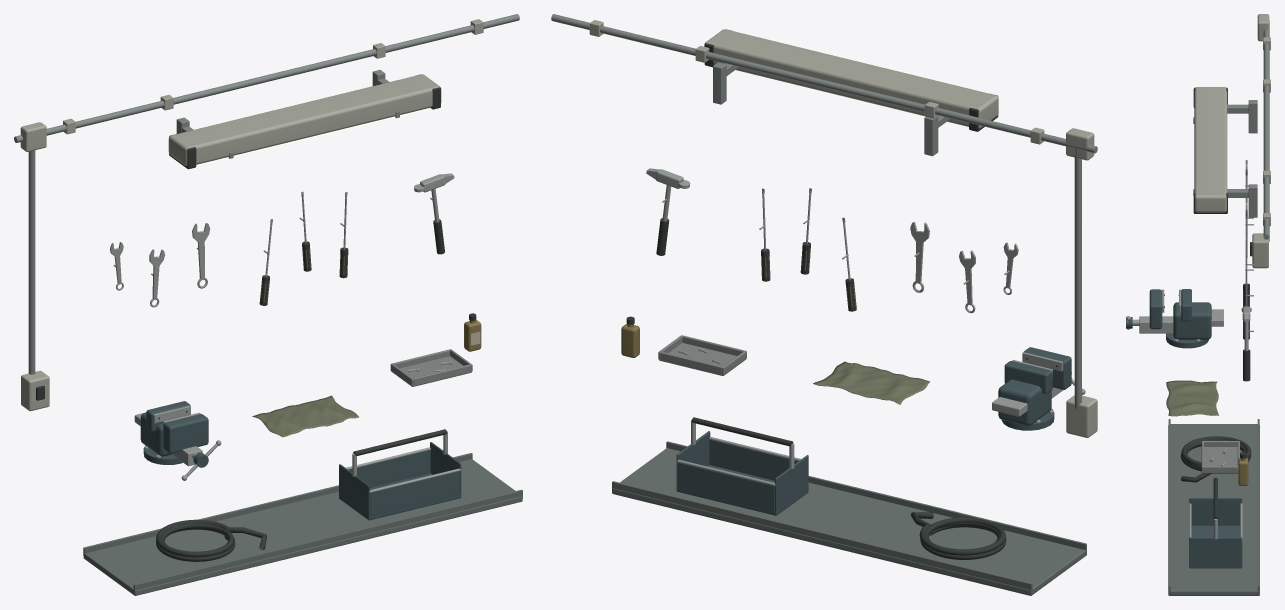
File: workshop_tools.glb
3 renders of one model, left to right at view 1: azimuth 30°, elevation 25°; view 2: azimuth 150°, elevation 25°; view 3: azimuth 270°, elevation 25°, orthographic. The views are drawn at different scales.
Visible parts, largest first — view 1: Lower bench shelf, Task light folded housing, Horizontal supply conduit, Shelf folded lip.001, Service cloth, Tote side.001, Coiled spare air hose, Switch drop conduit, Tote side, Shelf folded lip, Moving jaw casting, Tote end (+5 smaller); view 2: Lower bench shelf, Task light folded housing, Horizontal supply conduit, Shelf folded lip, Service cloth, Tote side, Coiled spare air hose, Shelf folded lip.001, Switch drop conduit, Tote side.001, Vise fixed casting, Tote end (+6 smaller); view 3: Lower bench shelf, Task light folded housing, Service cloth, Tote end.001, Horizontal supply conduit, Tote end, Vise fixed casting, Coiled spare air hose, Tote base, Parts tray floor, Switch enclosure, Moving jaw casting (+13 smaller).
Part boxes in pixels (box(x1,y1,x2,y2)): Lower bench shelf: box(83, 459, 522, 595); Task light folded housing: box(168, 74, 441, 166); Horizontal supply conduit: box(14, 14, 519, 142); Shelf folded lip.001: box(133, 489, 522, 593); Service cloth: box(252, 395, 358, 437); Tote side.001: box(370, 471, 459, 516); Coiled spare air hose: box(156, 519, 266, 561); Switch drop conduit: box(28, 150, 35, 374); Tote side: box(349, 450, 430, 487); Shelf folded lip: box(83, 453, 472, 555); Moving jaw casting: box(163, 414, 208, 453); Tote end: box(339, 464, 370, 517); Lower bench shelf: box(612, 448, 1086, 595); Task light folded housing: box(704, 29, 998, 128); Horizontal supply conduit: box(551, 14, 1097, 153); Shelf folded lip: box(612, 481, 1032, 592); Service cloth: box(813, 361, 929, 404); Tote side: box(678, 463, 774, 511); Coiled spare air hose: box(910, 512, 1006, 559); Shelf folded lip.001: box(666, 441, 1086, 552); Switch drop conduit: box(1074, 147, 1081, 409); Tote side.001: box(709, 440, 797, 480); Vise fixed casting: box(998, 379, 1051, 425); Tote end: box(775, 455, 808, 512); Lower bench shelf: box(1168, 424, 1259, 595); Task light folded housing: box(1194, 87, 1227, 212); Service cloth: box(1166, 380, 1218, 416); Tote end.001: box(1189, 537, 1242, 565); Horizontal supply conduit: box(1263, 20, 1269, 239); Tote end: box(1189, 498, 1242, 525); Vise fixed casting: box(1173, 302, 1211, 339); Coiled spare air hose: box(1180, 436, 1251, 482); Tote base: box(1189, 525, 1242, 568); Parts tray floor: box(1202, 447, 1237, 473); Switch enclosure: box(1252, 233, 1268, 268); Moving jaw casting: box(1149, 289, 1162, 329).
Size of the model in its own units: 3.08 by 2.59 by 0.8715.
